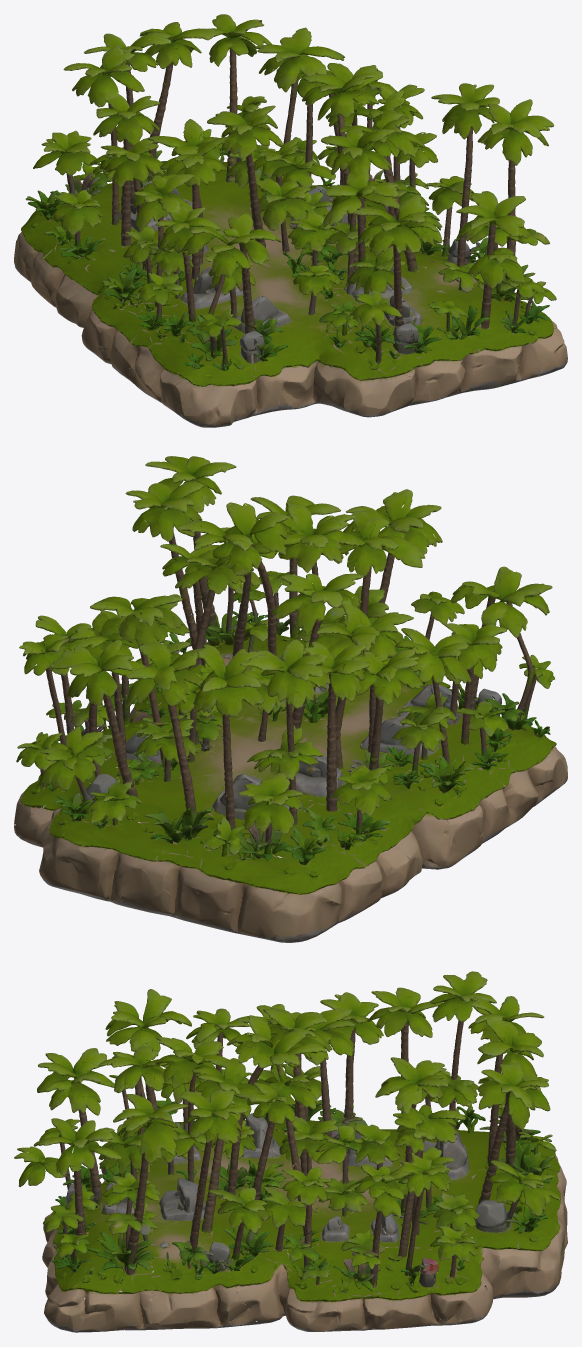
Rendered from Jungle_Island_02.glb.
3 views of the same model, one above another, from view 1: azimuth 30°, elevation 25°; view 2: azimuth 150°, elevation 25°; view 3: azimuth 270°, elevation 25° (orthographic). The views are drawn at different scales.
Visible parts, largest first — view 1: tripo_mesh_181bac9a_1a59_4d30_9f92_cc4740d3c9f0; view 2: tripo_mesh_181bac9a_1a59_4d30_9f92_cc4740d3c9f0; view 3: tripo_mesh_181bac9a_1a59_4d30_9f92_cc4740d3c9f0.
Boxes of the visible parts, x1=… form: tripo_mesh_181bac9a_1a59_4d30_9f92_cc4740d3c9f0: x1=14, y1=14, x2=567, y2=427; tripo_mesh_181bac9a_1a59_4d30_9f92_cc4740d3c9f0: x1=14, y1=456, x2=567, y2=942; tripo_mesh_181bac9a_1a59_4d30_9f92_cc4740d3c9f0: x1=14, y1=971, x2=567, y2=1332.
Size of the model in its own units: 254 by 160 by 321.
1 material, 1 textured.
